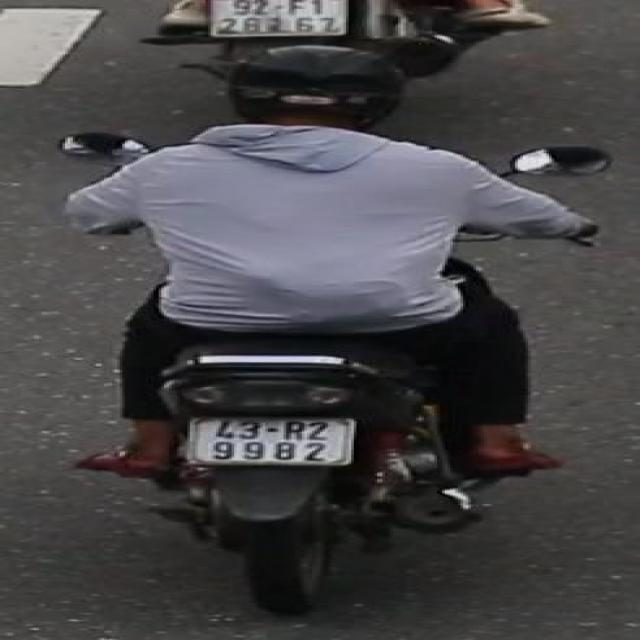LP: (182, 409, 367, 469)
helmet: (218, 42, 412, 139)
